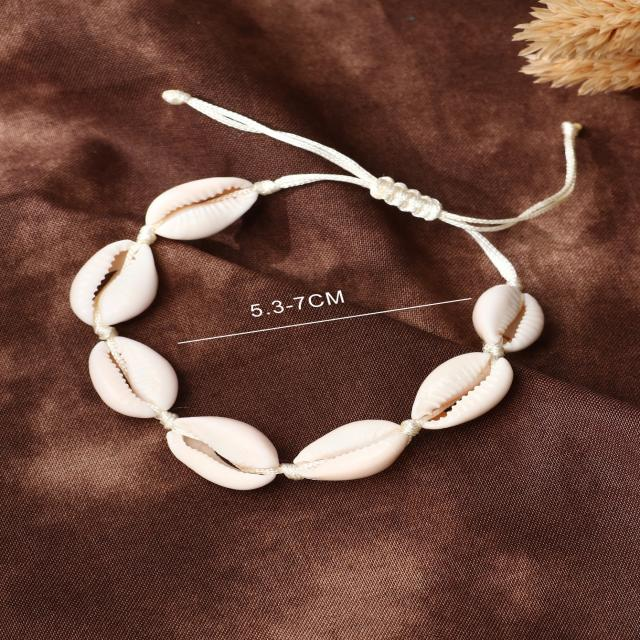bracelet: (29, 9, 640, 506)
